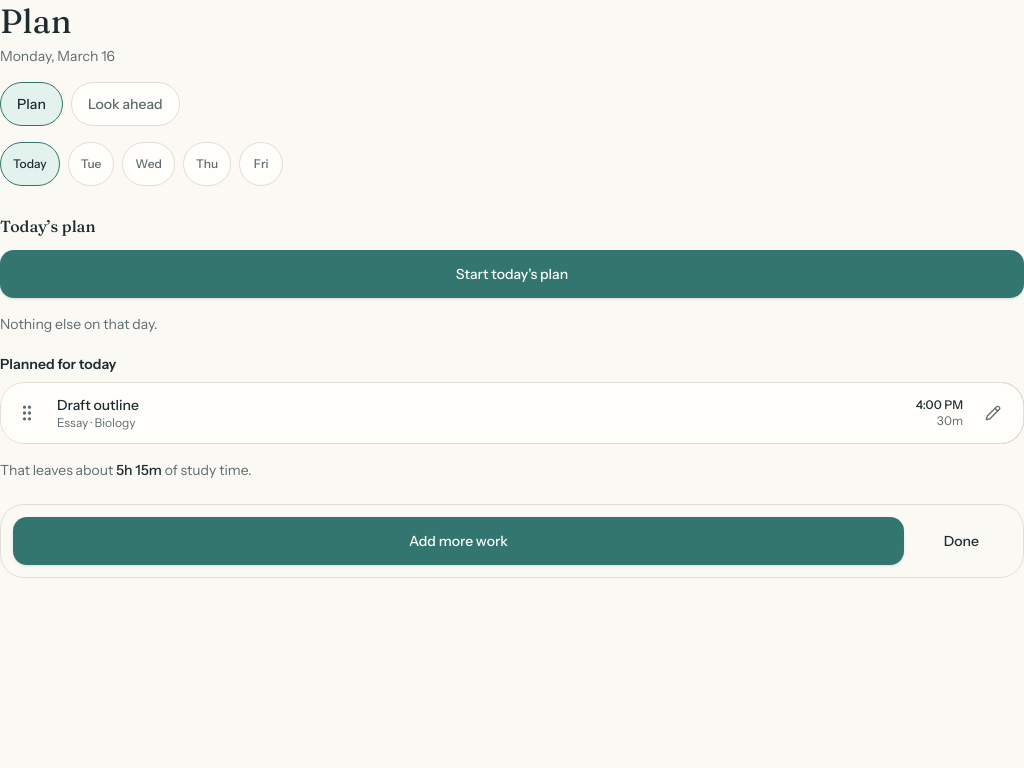
Test case: PlanPage › shows an already-planned session with its parent assignment and course, and can remove it
Expected: the heading "Today’s plan" is shown, 0,216 -> 96,236
Expected: the text "Draft outline" is shown, 57,396 -> 139,414
Click the button named "Edit Draft outline" at (993, 413), box 971,391 -> 1015,435
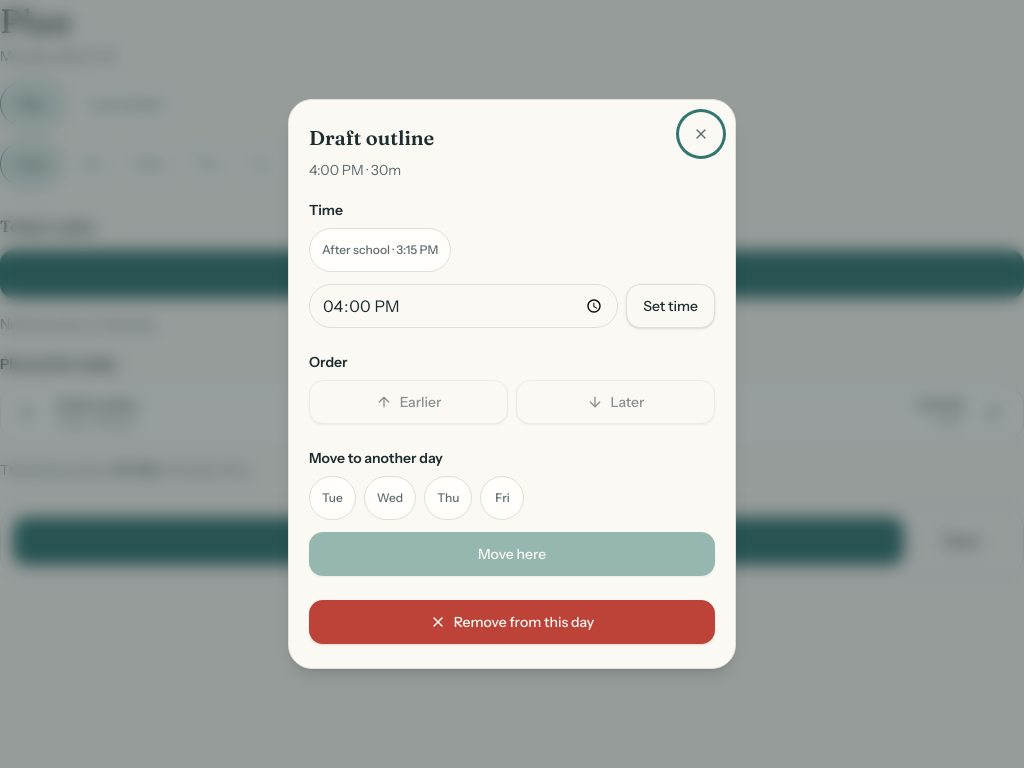
Click the button "Remove from this day" at (512, 622), box 309,600 -> 715,644
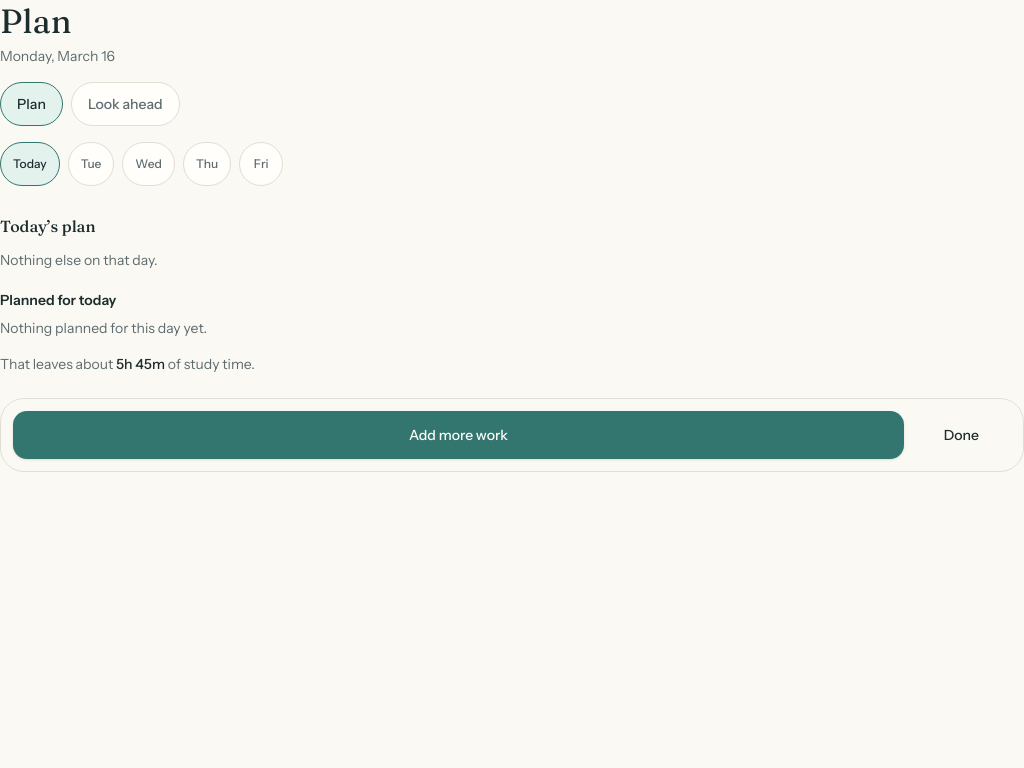
Result: the text "Nothing planned for this day yet." is shown at 0,319 -> 207,337
